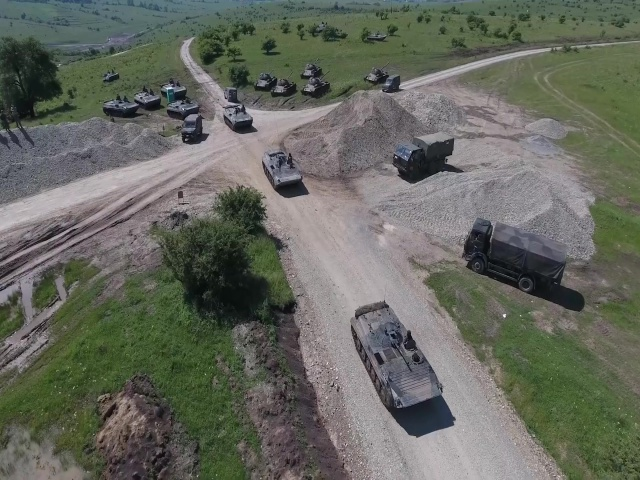vehicle: (348, 301, 444, 416), (463, 219, 569, 295), (391, 131, 455, 177), (260, 149, 305, 190), (223, 104, 255, 131), (180, 114, 205, 141), (133, 86, 161, 110), (101, 99, 138, 117), (166, 98, 200, 116), (269, 77, 298, 97), (159, 79, 188, 98), (301, 77, 328, 97), (254, 72, 277, 90), (365, 68, 388, 84), (382, 74, 401, 93), (300, 63, 322, 77), (223, 86, 240, 102), (366, 32, 388, 42), (104, 69, 120, 82)
